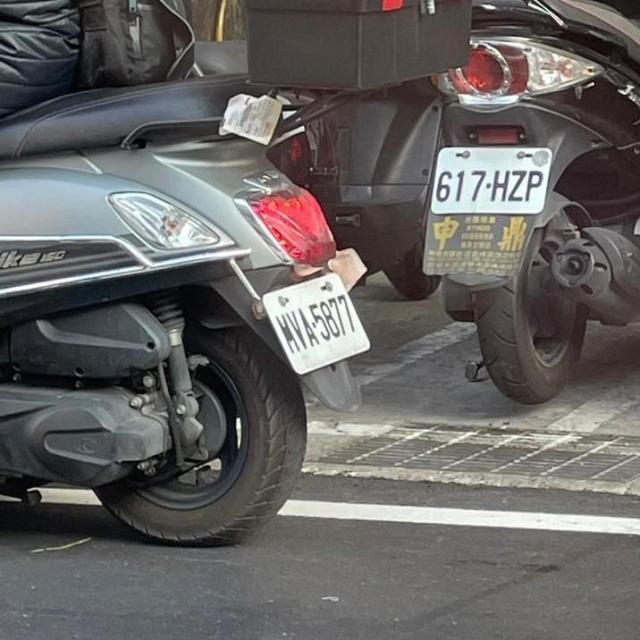W: (256, 256, 379, 382), (424, 134, 558, 226)
